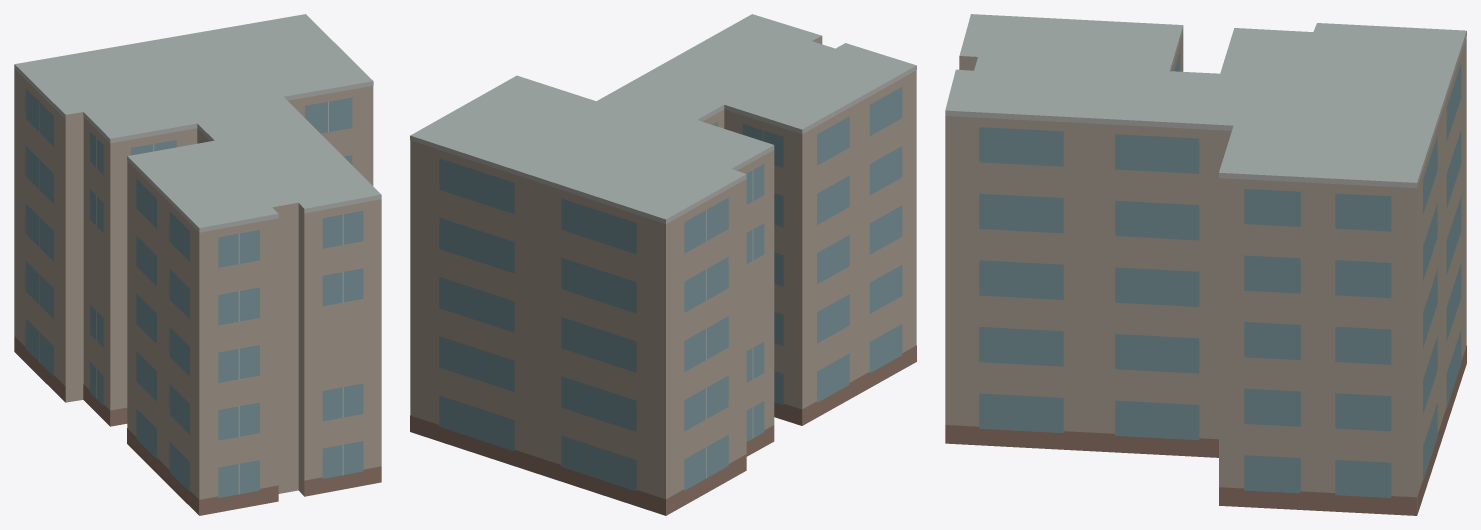
File: survey-upis-32910844.glb
3 views of the same model, side by side, from view 1: azimuth 30°, elevation 25°; view 2: azimuth 150°, elevation 25°; view 3: azimuth 270°, elevation 25° (orthographic). The views are drawn at different scales.
Parts seen in each view (by area): view 1: survey-upis-32910844.tmp; view 2: survey-upis-32910844.tmp; view 3: survey-upis-32910844.tmp.
Part boxes in pixels (left/top/right/bottom): survey-upis-32910844.tmp: left=14, top=14, right=381, bottom=515; survey-upis-32910844.tmp: left=410, top=14, right=916, bottom=515; survey-upis-32910844.tmp: left=945, top=14, right=1466, bottom=515.
Bounding box in the file's own units: 16.65 × 15.3 × 21.73.
